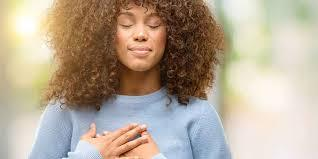person: (74, 0, 204, 77)
